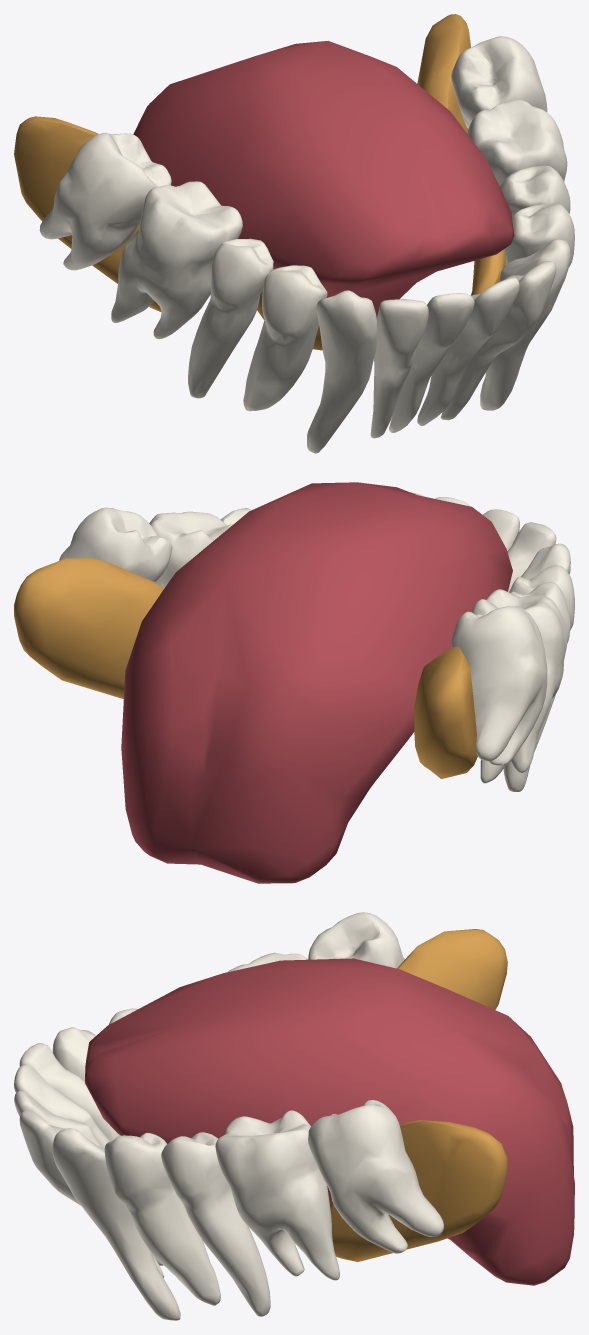
The model's file is ogiz.glb.
3 renders of one model, top to bottom at view 1: azimuth 30°, elevation 25°; view 2: azimuth 150°, elevation 25°; view 3: azimuth 270°, elevation 25°, orthographic.
Visible parts, largest first — view 1: ogiz; view 2: ogiz; view 3: ogiz.
Part boxes in pixels (left/top/right/bottom): ogiz: left=14, top=14, right=574, bottom=453; ogiz: left=14, top=482, right=574, bottom=883; ogiz: left=14, top=912, right=574, bottom=1320.
Bounding box in the file's own units: 0.0656 × 0.0402 × 0.068.
